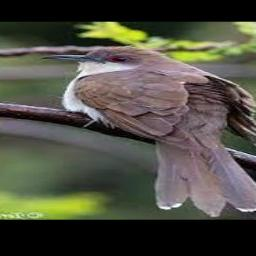Cuckoo: (43, 46, 256, 215)
